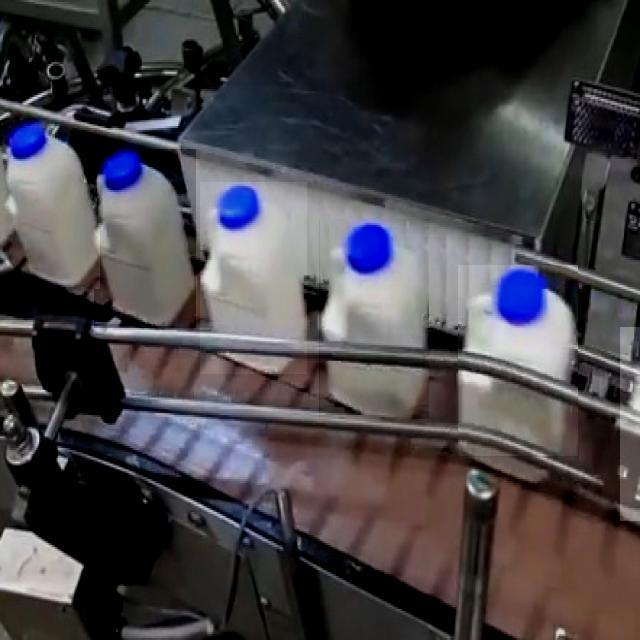milk: (454, 259, 570, 484), (315, 220, 437, 421), (191, 174, 308, 382), (100, 149, 194, 335), (3, 119, 98, 299)
